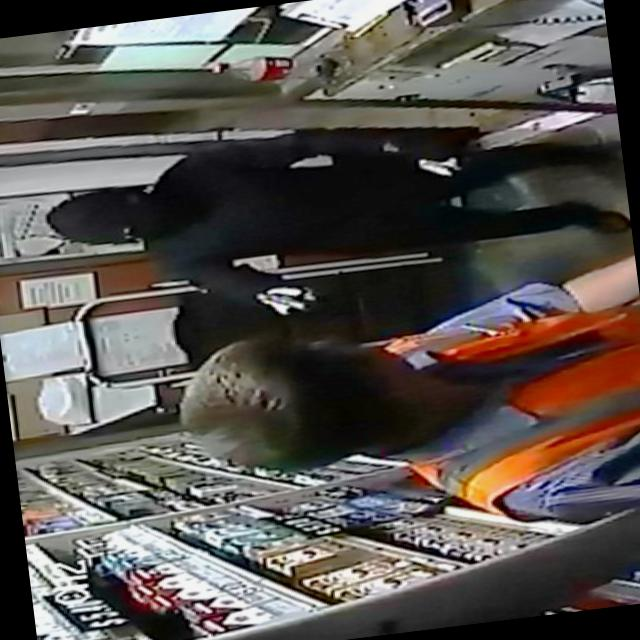handgun: (260, 282, 326, 316)
